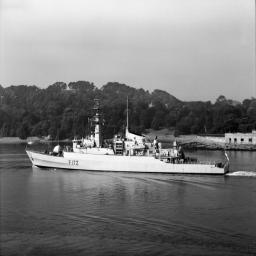Fragata: (24, 95, 230, 178)
